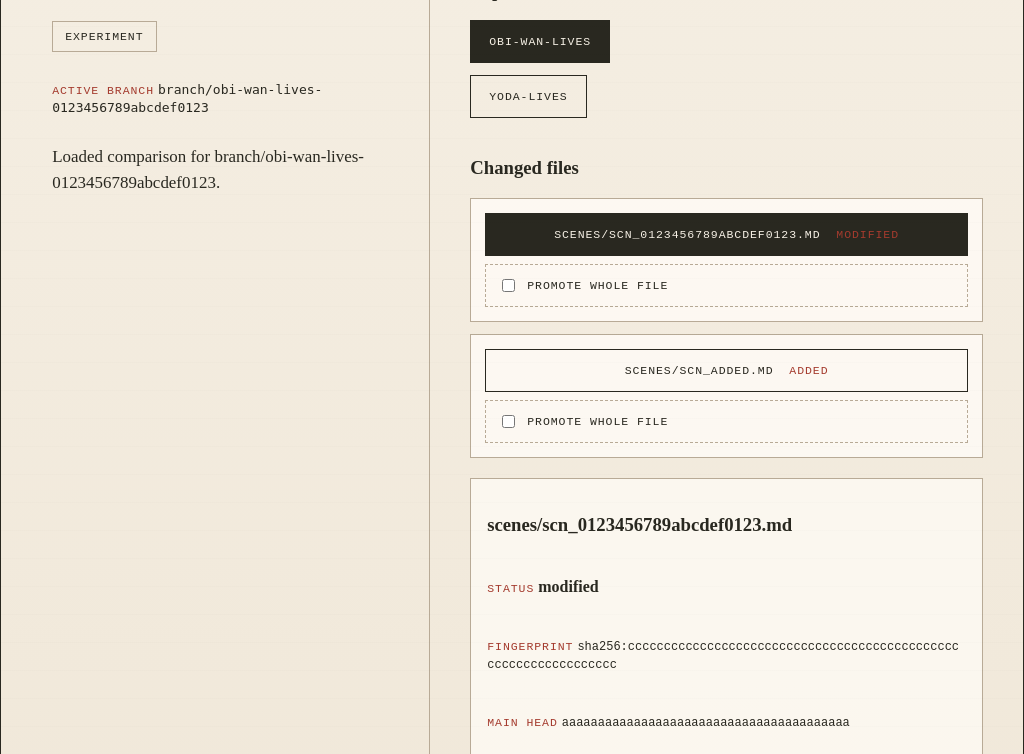
Test: ignores stale file comparison responses after path changes
(page scrolled)
Click the button "scenes/scn_added.md added" at point(727, 370), box [485,349,968,392]
(page scrolled)
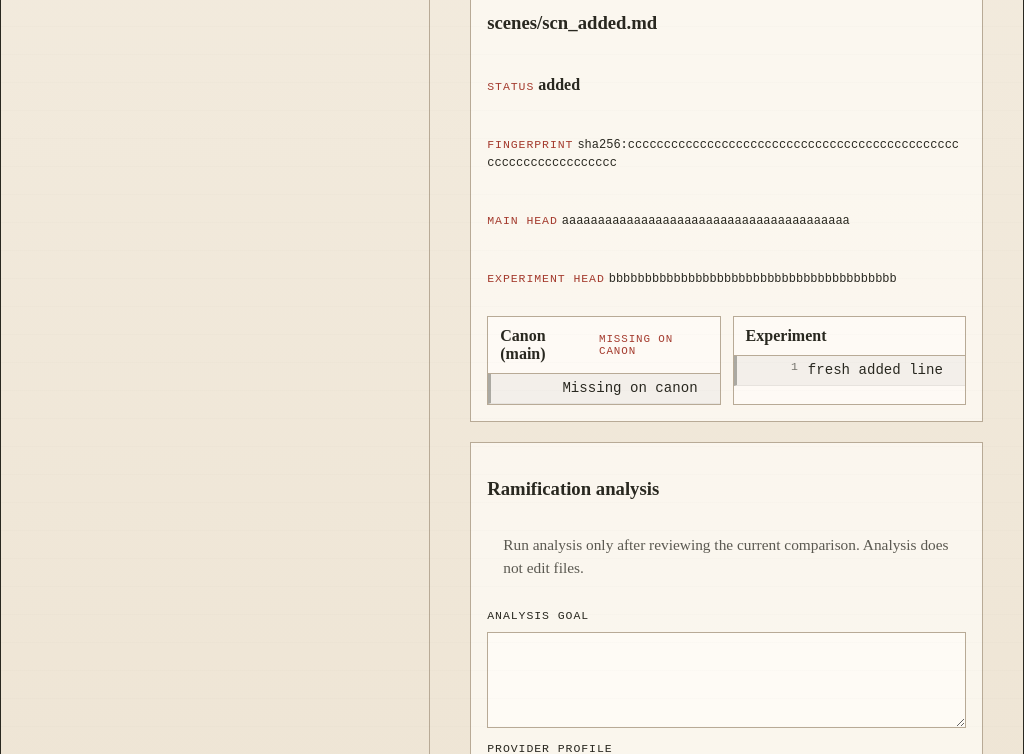
Now the text "fresh added line" is shown, box [808,360,955,381]
